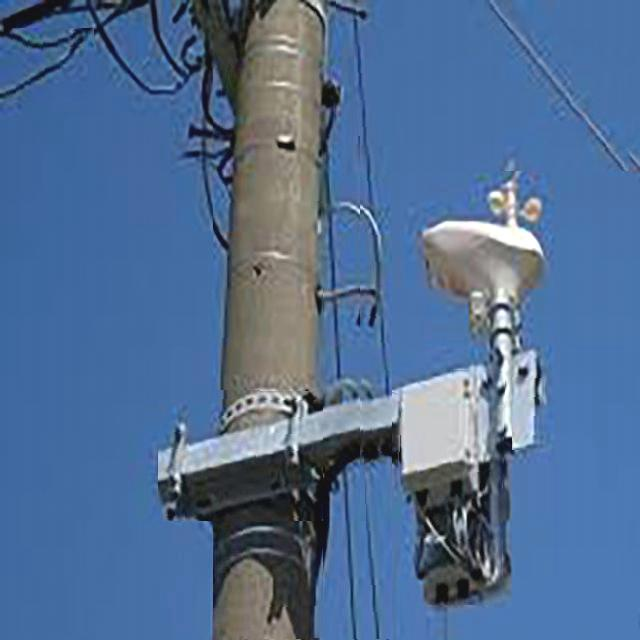crossarm: (158, 392, 403, 521), (512, 348, 544, 450)
pole: (213, 0, 335, 640)
transformer: (401, 370, 503, 605)
wire: (489, 0, 632, 171), (347, 5, 392, 539), (323, 137, 360, 640), (8, 28, 94, 103)
